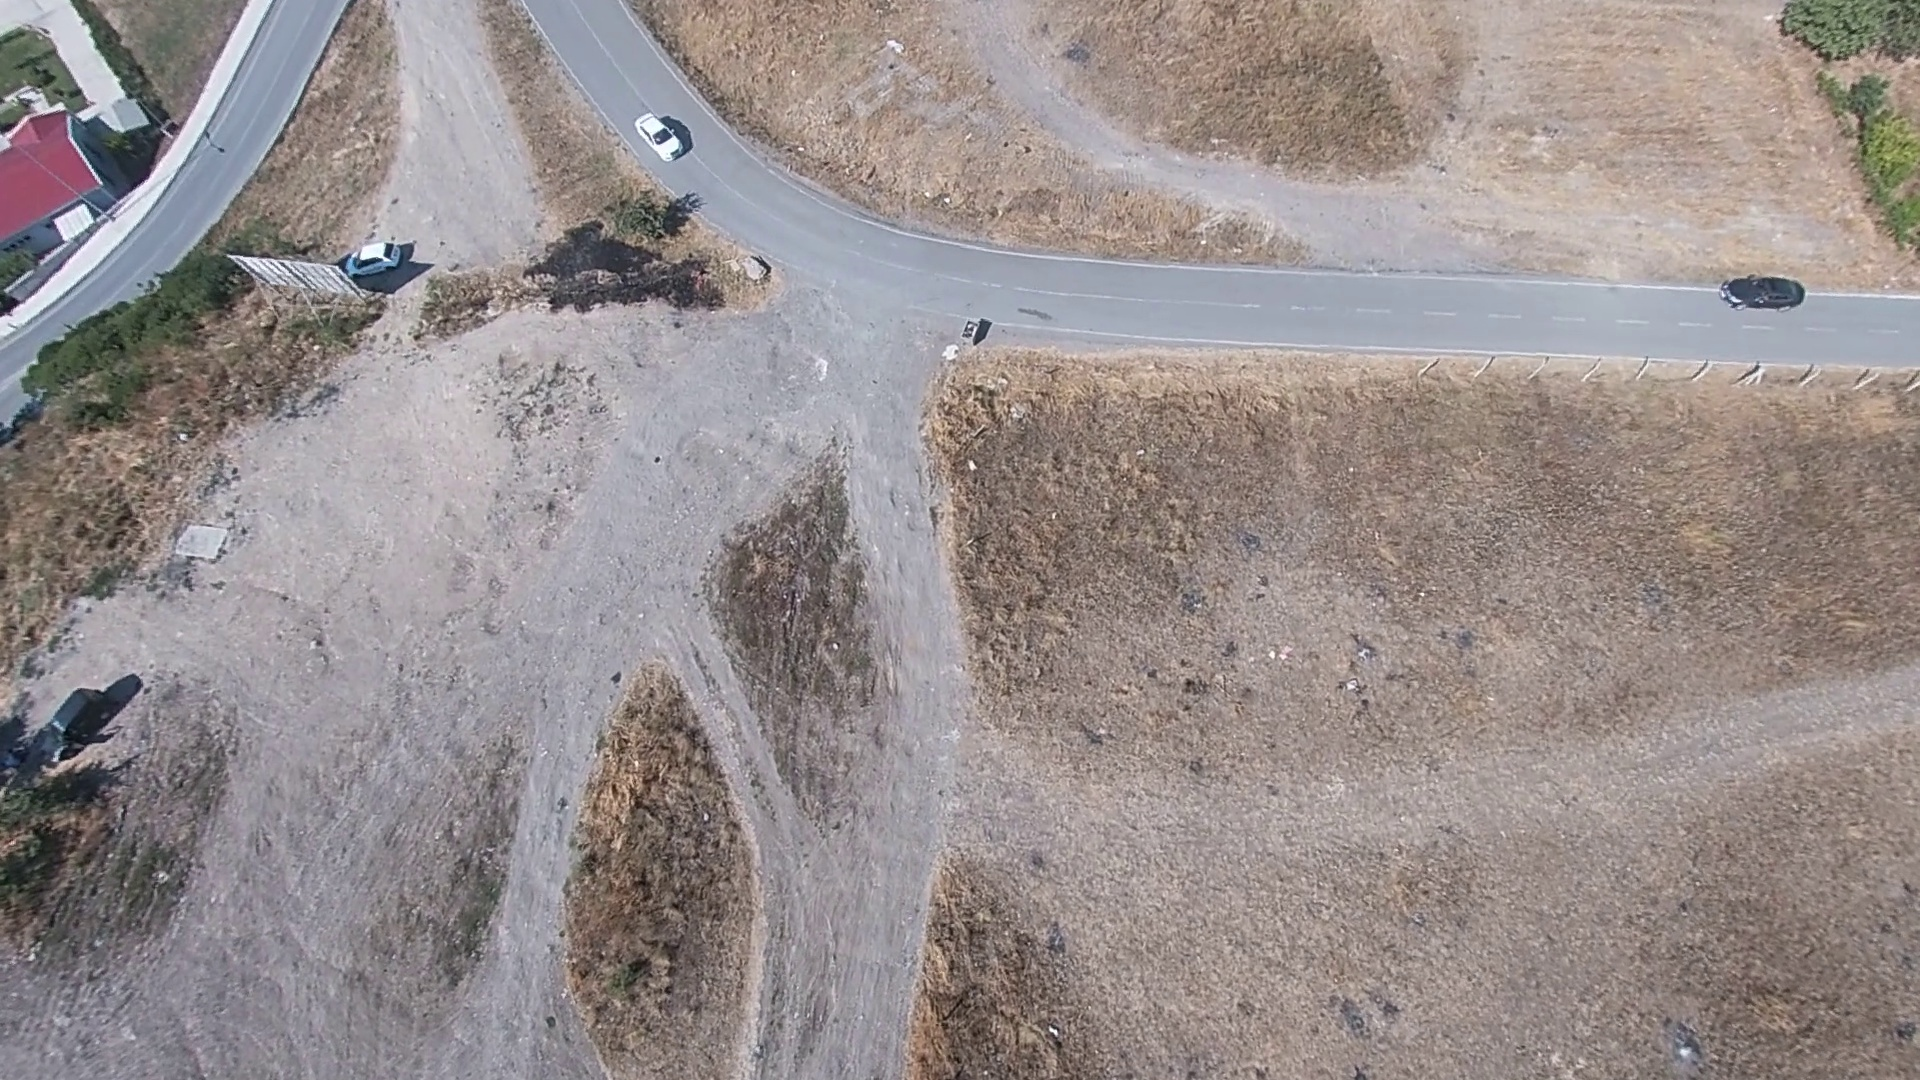arac: (15, 676, 113, 771), (1712, 268, 1804, 313), (338, 235, 419, 280), (632, 109, 688, 162)
